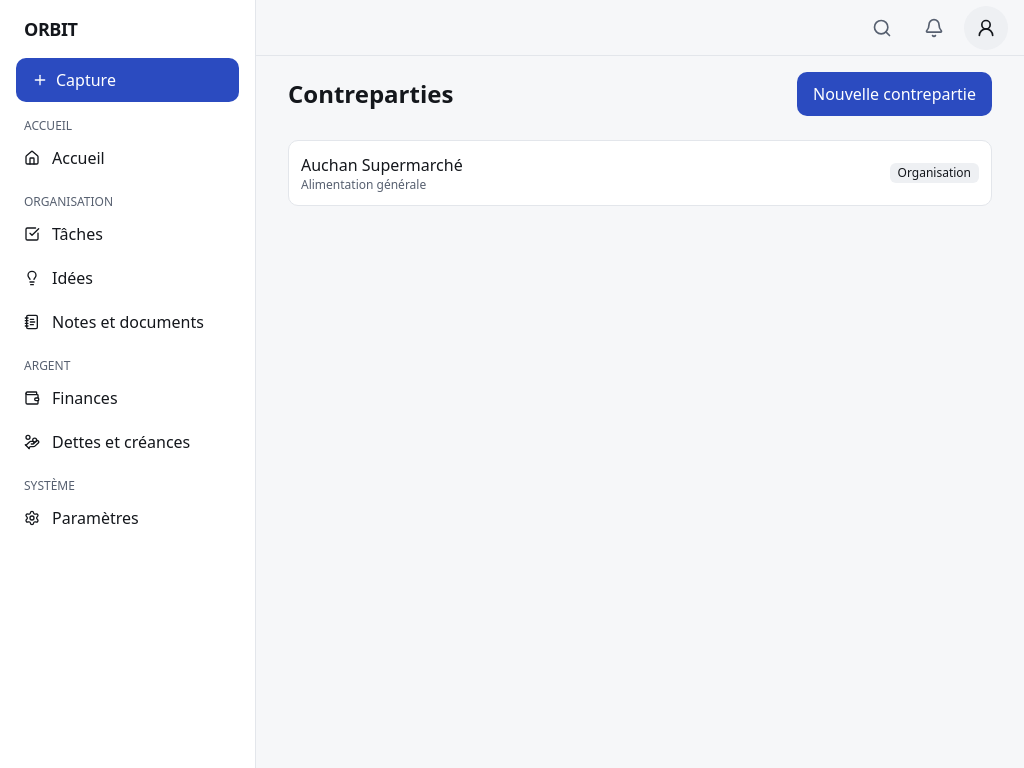
Finance - Counterparties management (/finance/counterparties) › lists counterparties and creates a new counterparty
The width and height of the screenshot is (1024, 768).
Expected: the heading "Contreparties" is shown, [288, 78, 453, 110]
Expected: the text "Auchan Supermarché" is shown, [301, 153, 463, 177]
Step 1. Click the button "Nouvelle contrepartie" → (894, 94), box [797, 72, 992, 116]
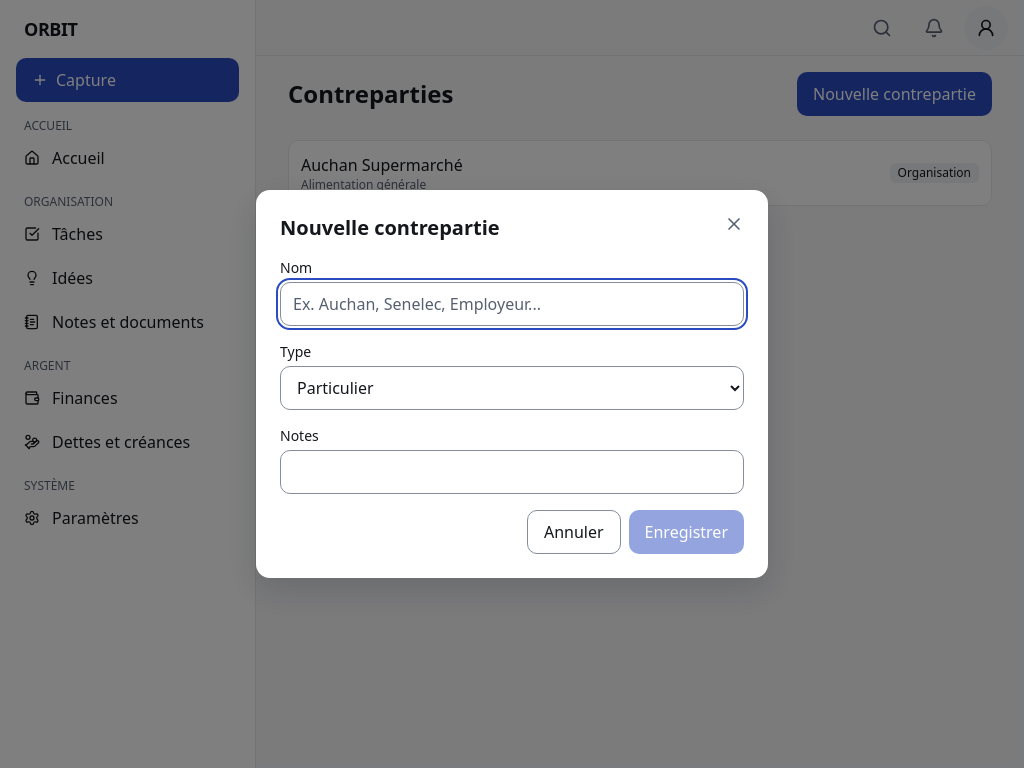
Now the heading "Nouvelle contrepartie" is shown, box [280, 214, 500, 241]
Step 2. Type "Boutique Quartier" into the field labelled "Nom" → (512, 304), box [280, 282, 744, 326]
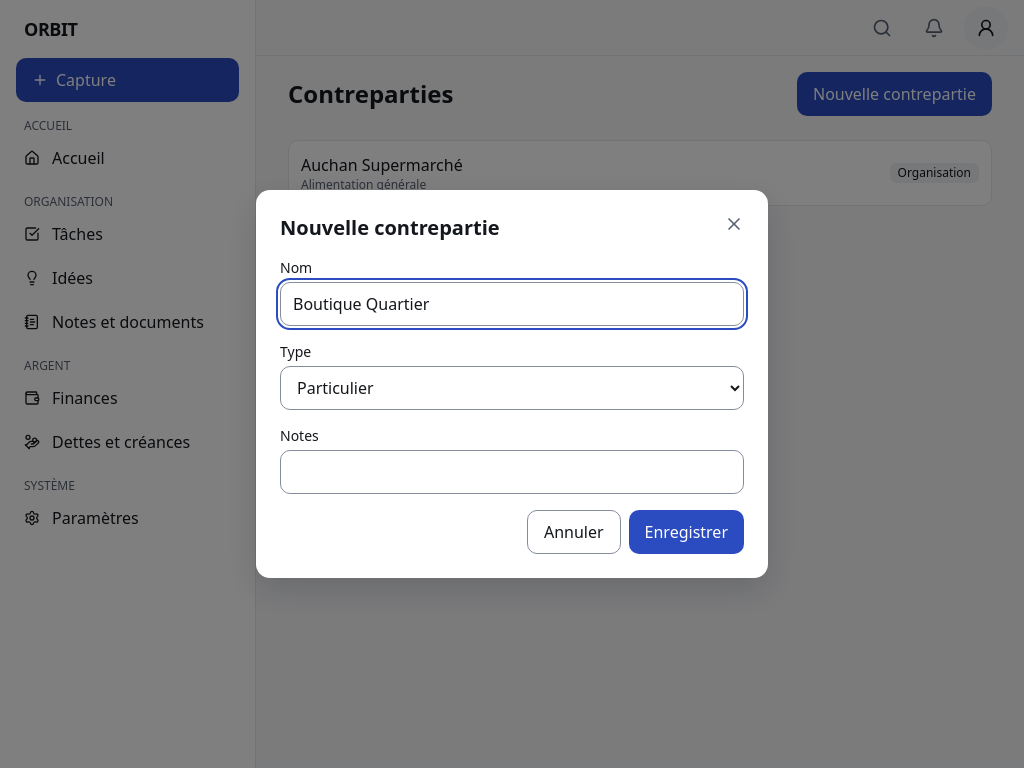
Step 3. Click the button "Enregistrer" → (686, 532), box [629, 510, 744, 554]
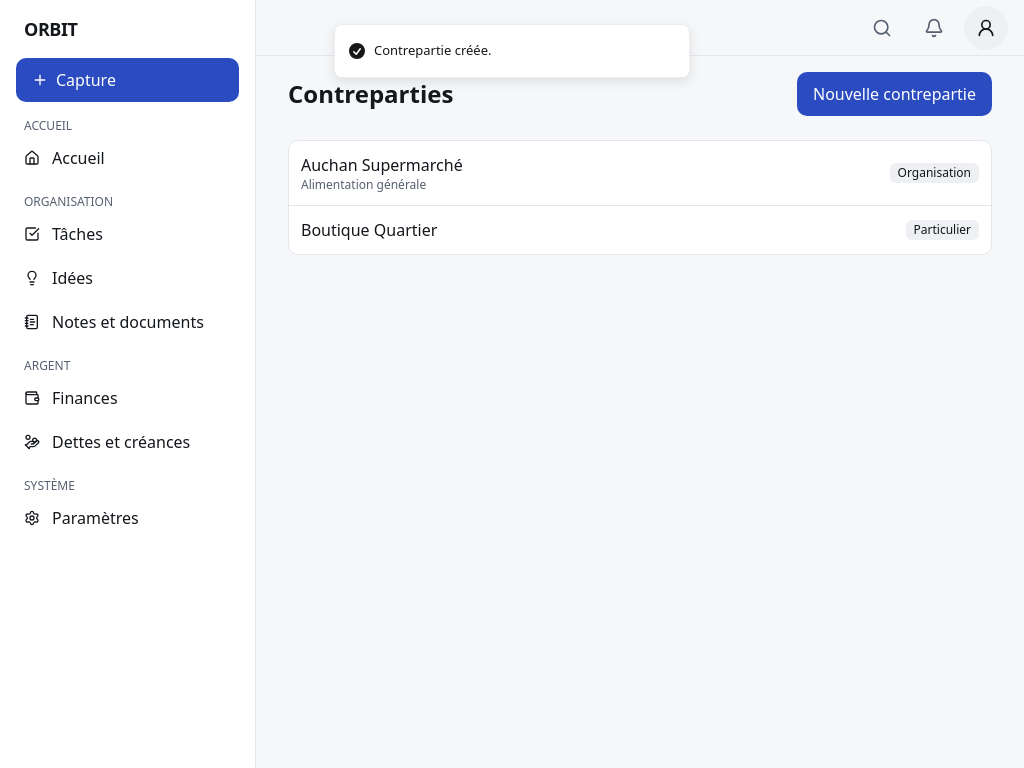
Now the text "Boutique Quartier" is shown, box [301, 218, 437, 242]
